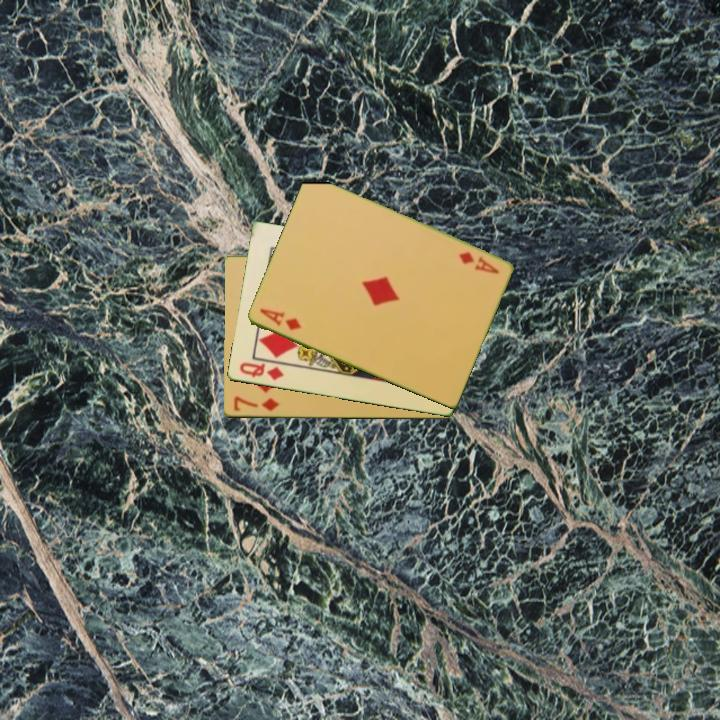7d: (230, 393, 282, 414)
Ad: (256, 305, 304, 334), (454, 248, 502, 277)
Qd: (235, 359, 287, 383)
